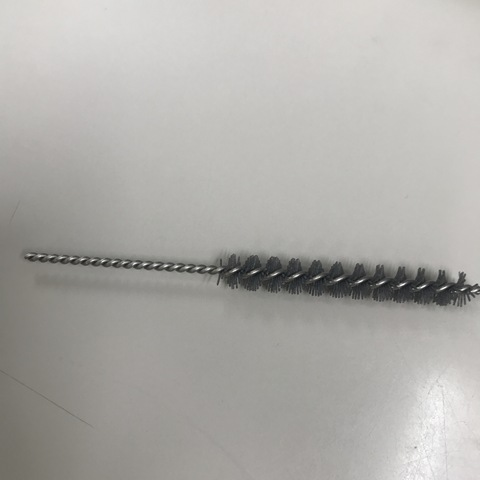Twist Brush-A: (25, 244, 480, 310)
